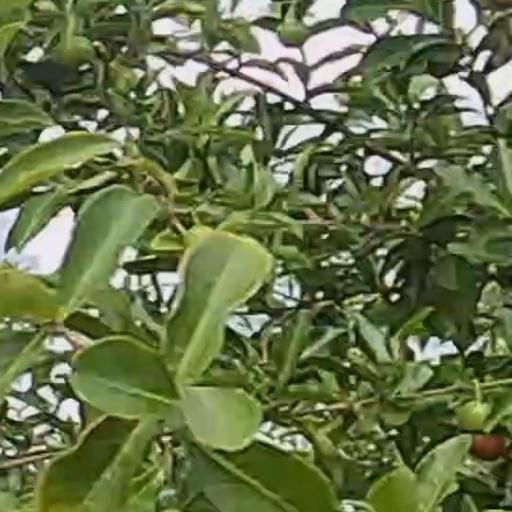acerola: (472, 436, 506, 460)
